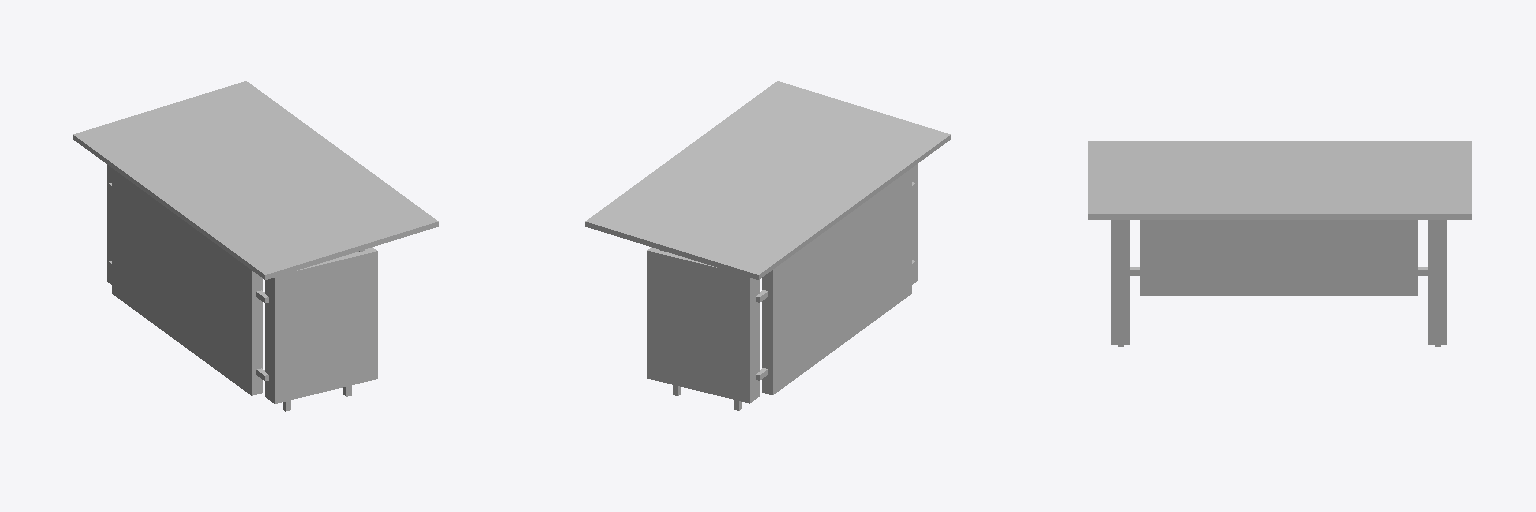
File: BusStop.obj
The picture shows the model from 3 angles: view 1: azimuth 30°, elevation 25°; view 2: azimuth 150°, elevation 25°; view 3: azimuth 270°, elevation 25°; orthographic projection.
Parts seen in each view (by area): view 1: Cube.005_Cube.006; view 2: Cube.005_Cube.006; view 3: Cube.005_Cube.006.
Boxes of the visible parts, box(x1,y1,x2,y2) form: Cube.005_Cube.006: box(73, 81, 438, 411); Cube.005_Cube.006: box(585, 81, 950, 410); Cube.005_Cube.006: box(1088, 141, 1471, 346).
Size of the model in its own units: 13.86 by 12.76 by 26.54.